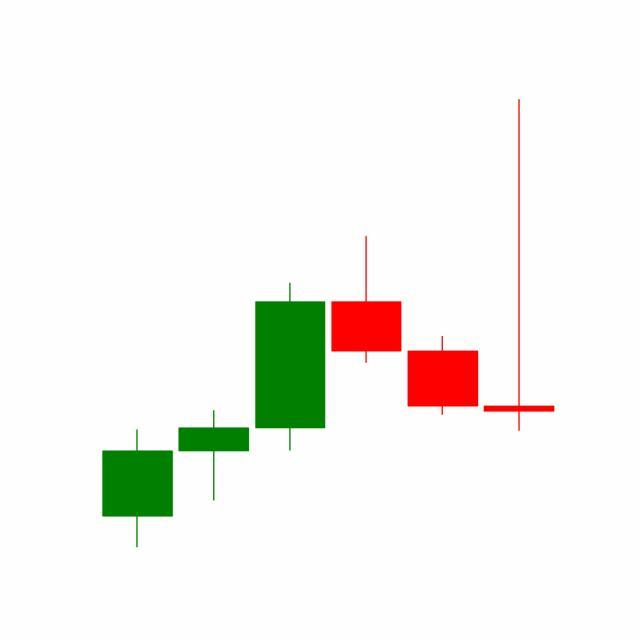Marubozu: (404, 336, 482, 418)
